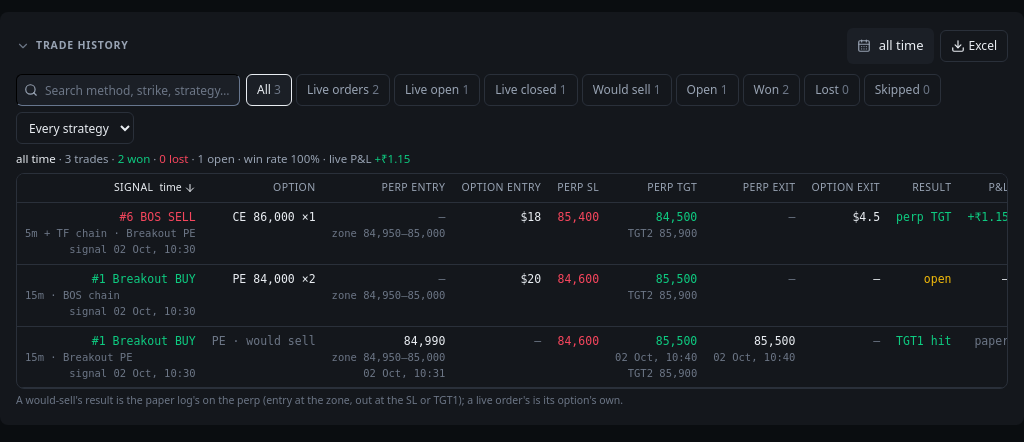
Test: search, sort, and the live tabs › [critical] Live open and Live closed split the live orders
The image size is (1024, 442).
Step 1. Click the button "Live open 1" → (437, 90), box 394,74 -> 480,106
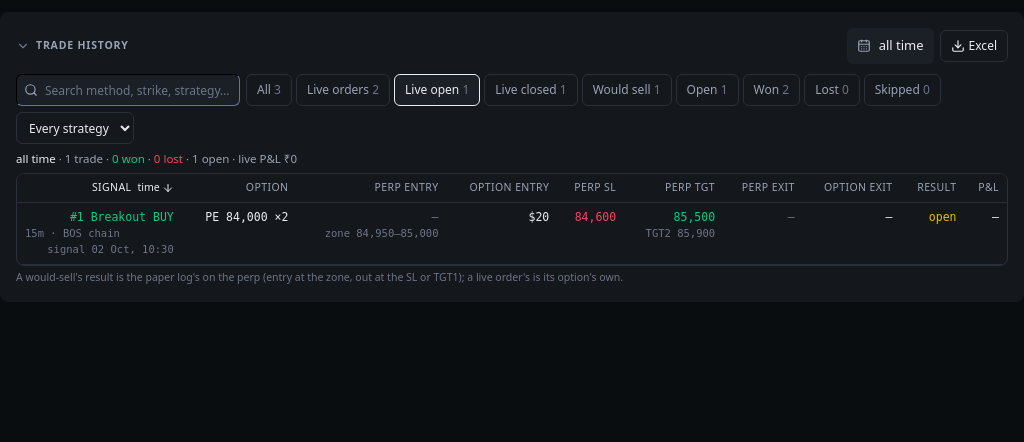
Expected: the row that starts with "#1 Breakout BUY" shows "PE 84,000 ×2", 17,202 -> 1007,264
Step 2. Click the button "Live closed 1" → (531, 90), box 484,74 -> 578,106
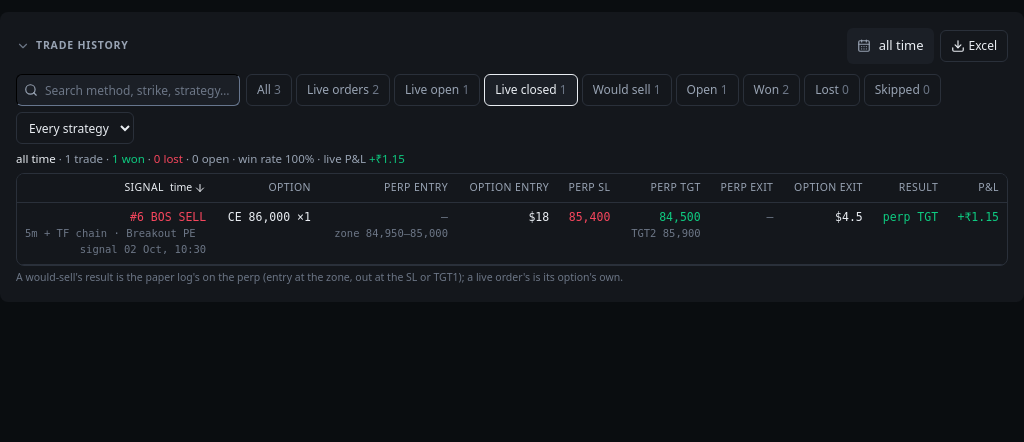
Expected: the row that starts with "#6 BOS SELL" shows "CE 86,000 ×1", 17,202 -> 1007,264
